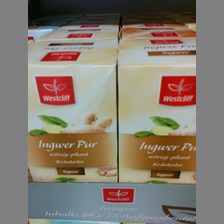tea: (29, 41, 119, 184), (118, 39, 196, 184)
